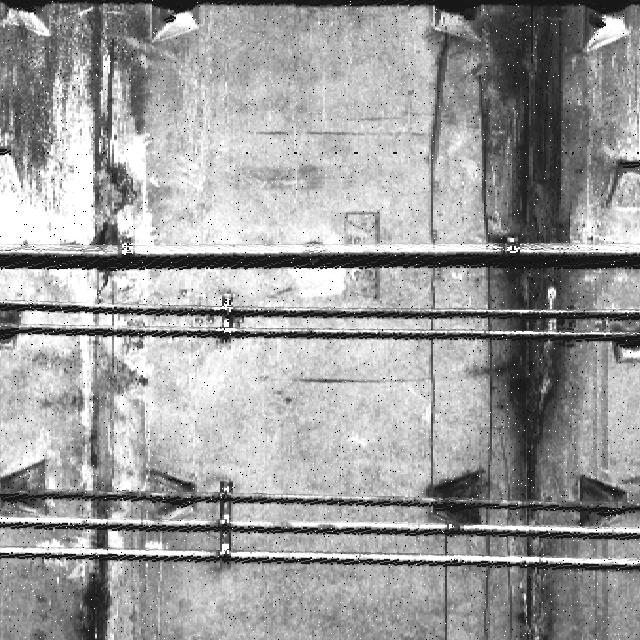leakage: (451, 0, 600, 637), (0, 4, 161, 239), (45, 267, 145, 636)
